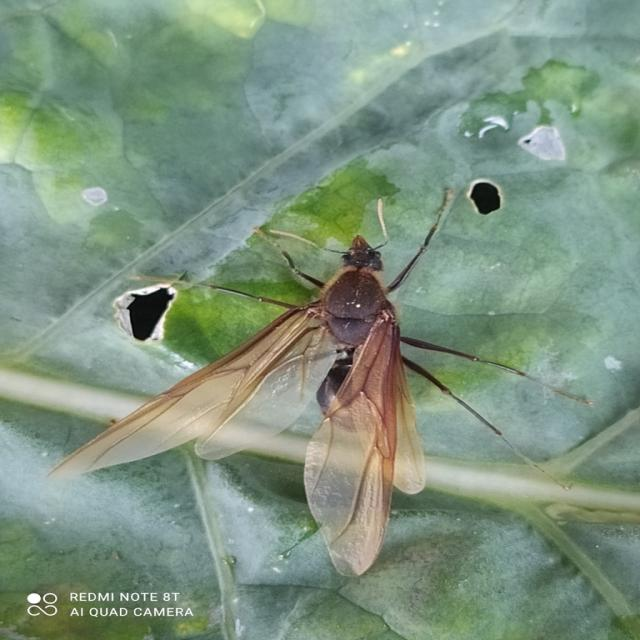Alive-Male-Alate: (43, 188, 594, 578)
